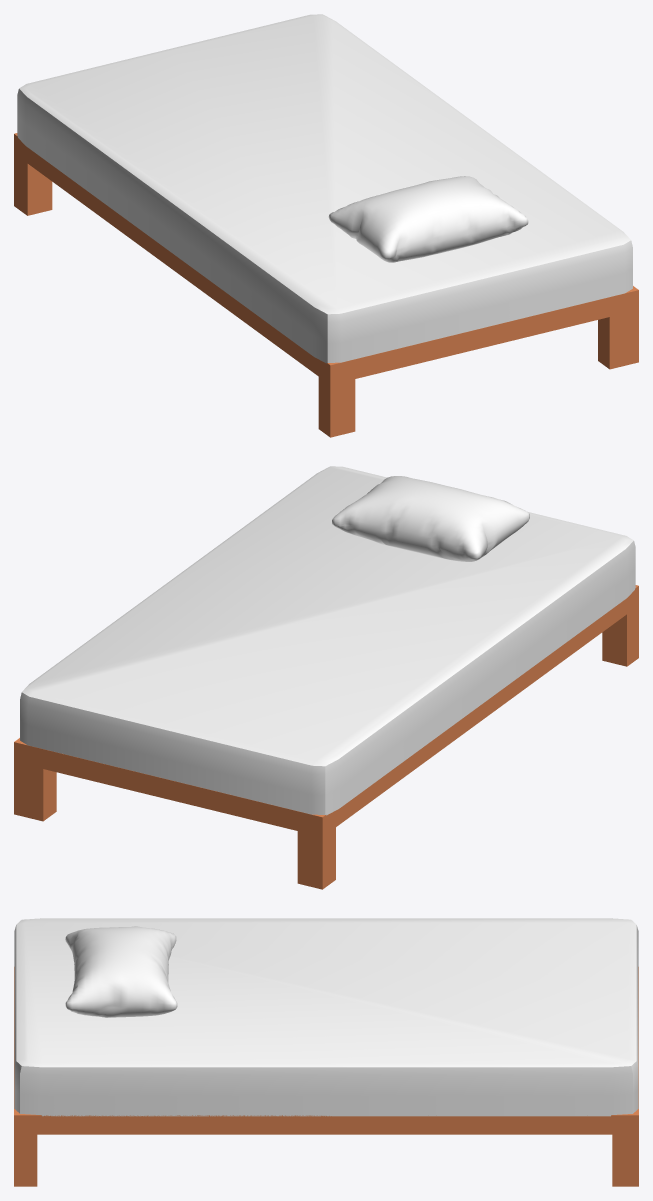
Rendered from Bed.fbx.
3 renders of one model, top to bottom at view 1: azimuth 30°, elevation 25°; view 2: azimuth 150°, elevation 25°; view 3: azimuth 270°, elevation 25°, orthographic.
Parts seen in each view (by area): view 1: bed, pillow; view 2: bed, pillow; view 3: bed, pillow.
Part boxes in pixels (x1,y1,x2,y2): bed: (14,14,638,437); pillow: (328,176,528,262); bed: (14,466,638,889); pillow: (332,476,529,561); bed: (14,918,638,1186); pillow: (65,926,177,1017).
Size of the model in its own units: 155 by 272 by 80.6.
